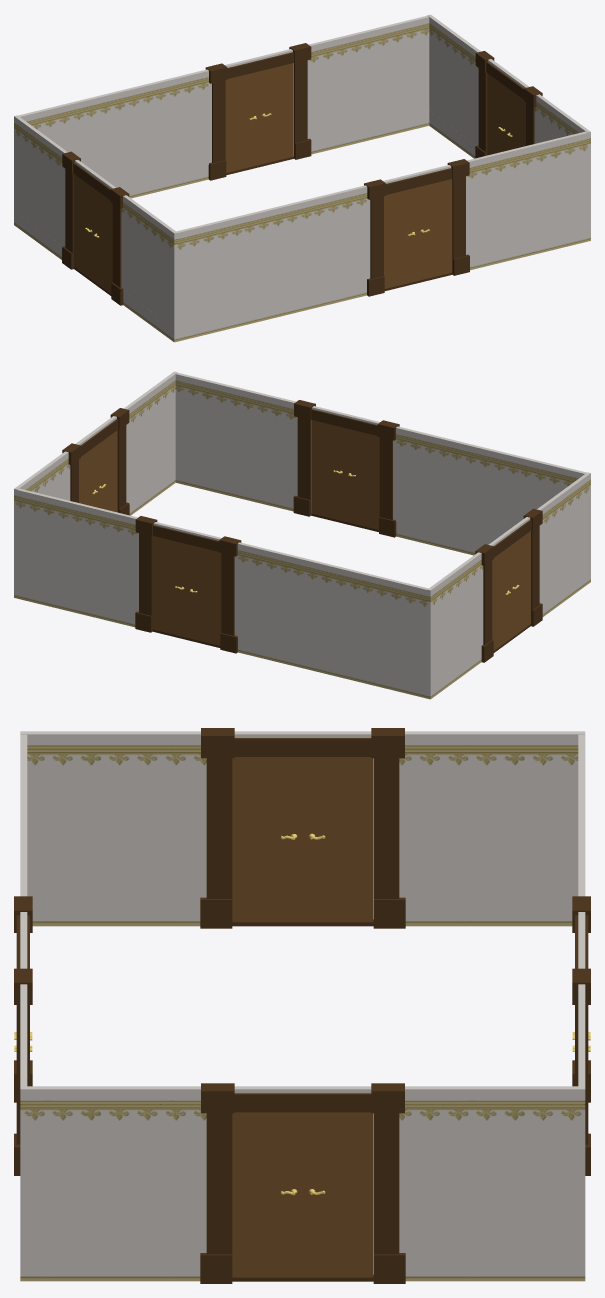
The model's file is Geo_Room6x4_4Doors_01.fbx.
The picture shows the model from 3 angles, top to bottom: view 1: azimuth 30°, elevation 25°; view 2: azimuth 150°, elevation 25°; view 3: azimuth 270°, elevation 25°; orthographic projection. The views are drawn at different scales.
Visible parts, largest first — view 1: geo_wallTopx6_01 (×2), geo_wallTopx4_01 (×2), geo_door_02 (×4), geo_door_01 (×4), geo_wallCulledx6_01 (×2), geo_doorFrameSide_05 (×4), geo_doorFrameSide_01 (×3), geo_doorFrameTop_01 (×4), geo_wallCulledx4_01 (×2); view 2: geo_wallTopx6_01 (×2), geo_wallTopx4_01 (×2), geo_door_01 (×4), geo_door_02 (×4), geo_wallCulledx6_01 (×2), geo_doorFrameSide_01 (×4), geo_doorFrameSide_05 (×3), geo_doorFrameTop_01 (×4), geo_wallCulledx4_01 (×2); view 3: geo_wallTopx4_01 (×2), geo_door_02 (×2), geo_door_01 (×2), geo_wallCulledx4_01 (×2), geo_doorFrameSide_05 (×4), geo_doorFrameSide_01 (×2), geo_doorFrameTop_01 (×2), geo_wallTopx6_01 (×2), geo_doorFrameSide_07 (×2), geo_doorFrameSide_03 (×2), geo_doorFrameSide_08 (×2), geo_doorFrameSide_04 (×2) (+1 smaller).
Part boxes in pixels (x1,y1,x2,y2): geo_wallTopx6_01 (×2): (14, 16, 587, 326); geo_wallTopx4_01 (×2): (14, 14, 590, 327); geo_door_02 (×4): (74, 63, 507, 280); geo_door_01 (×4): (94, 71, 525, 293); geo_wallCulledx6_01 (×2): (14, 111, 587, 341); geo_doorFrameSide_05 (×4): (65, 60, 487, 258); geo_doorFrameSide_01 (×3): (112, 80, 383, 287); geo_doorFrameTop_01 (×4): (73, 52, 523, 200); geo_wallCulledx4_01 (×2): (16, 111, 590, 342); geo_wallTopx6_01 (×2): (14, 373, 586, 684); geo_wallTopx4_01 (×2): (14, 371, 590, 684); geo_door_01 (×4): (97, 428, 530, 645); geo_door_02 (×4): (79, 420, 510, 650); geo_wallCulledx6_01 (×2): (14, 468, 488, 698); geo_doorFrameSide_01 (×4): (117, 425, 539, 635); geo_doorFrameSide_05 (×3): (139, 417, 492, 644); geo_doorFrameTop_01 (×4): (81, 409, 531, 557); geo_wallCulledx4_01 (×2): (129, 468, 590, 699); geo_wallTopx4_01 (×2): (20, 731, 585, 1255); geo_door_02 (×2): (302, 757, 373, 1277); geo_door_01 (×2): (232, 757, 302, 1277); geo_wallCulledx4_01 (×2): (20, 900, 585, 1281); geo_doorFrameSide_05 (×4): (16, 758, 588, 1254); geo_doorFrameSide_01 (×2): (206, 758, 232, 1254); geo_doorFrameTop_01 (×2): (234, 738, 371, 1112); geo_wallTopx6_01 (×2): (20, 734, 585, 1086); geo_doorFrameSide_07 (×2): (371, 728, 404, 1113); geo_doorFrameSide_03 (×2): (201, 728, 234, 1113); geo_doorFrameSide_08 (×2): (373, 903, 405, 1283); geo_doorFrameSide_04 (×2): (200, 903, 232, 1283).
Bounding box in the file's own units: 608 × 151 × 408.
Materials: 5 (1 with a texture image).
